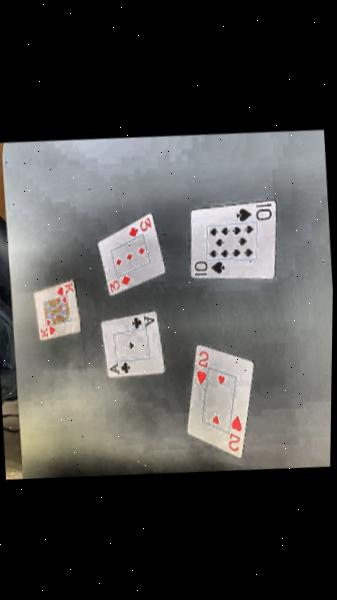10P: (233, 197, 276, 227), (187, 252, 228, 281)
2C: (217, 414, 247, 461), (188, 343, 213, 388)
3D: (102, 269, 134, 298), (122, 215, 150, 244)
AT: (127, 308, 160, 333), (107, 357, 134, 378)
KC: (50, 278, 75, 300), (34, 321, 60, 340)
